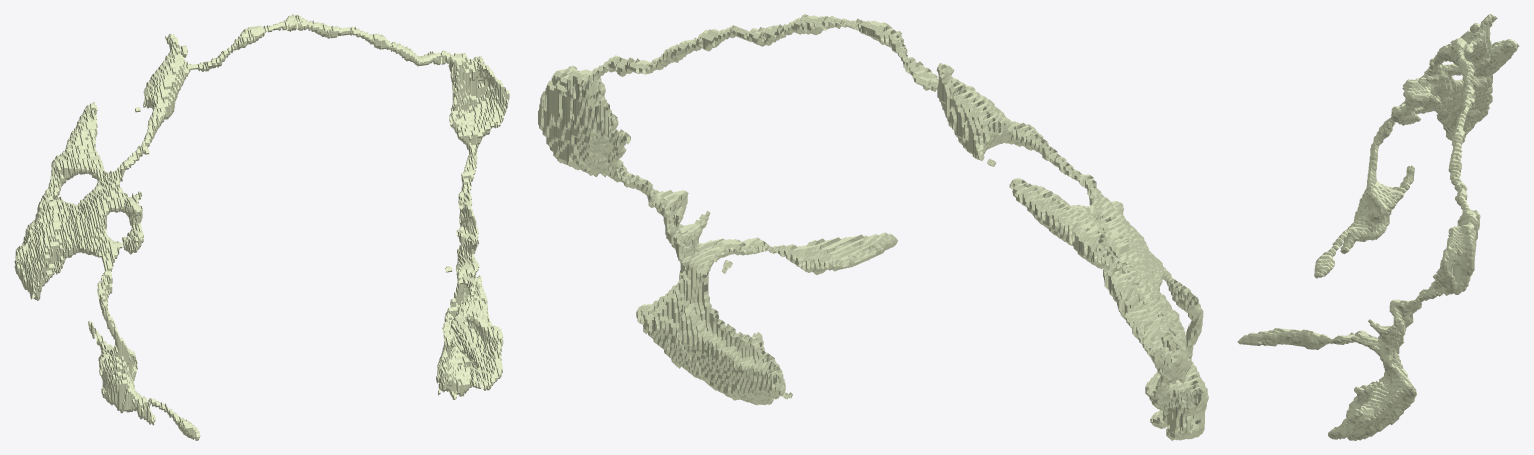
Rendered from SVV_RMDR.gltf.
The picture shows the model from 3 angles, left to right: view 1: azimuth 30°, elevation 25°; view 2: azimuth 150°, elevation 25°; view 3: azimuth 270°, elevation 25°; orthographic projection. The views are drawn at different scales.
Parts seen in each view (by area): view 1: RMDR; view 2: RMDR; view 3: RMDR.
Boxes of the visible parts, <box> form: RMDR: <box>14,14,509,440</box>; RMDR: <box>538,14,1208,440</box>; RMDR: <box>1237,14,1519,440</box>.
Size of the model in its own units: 130980 by 94316 by 72752.
